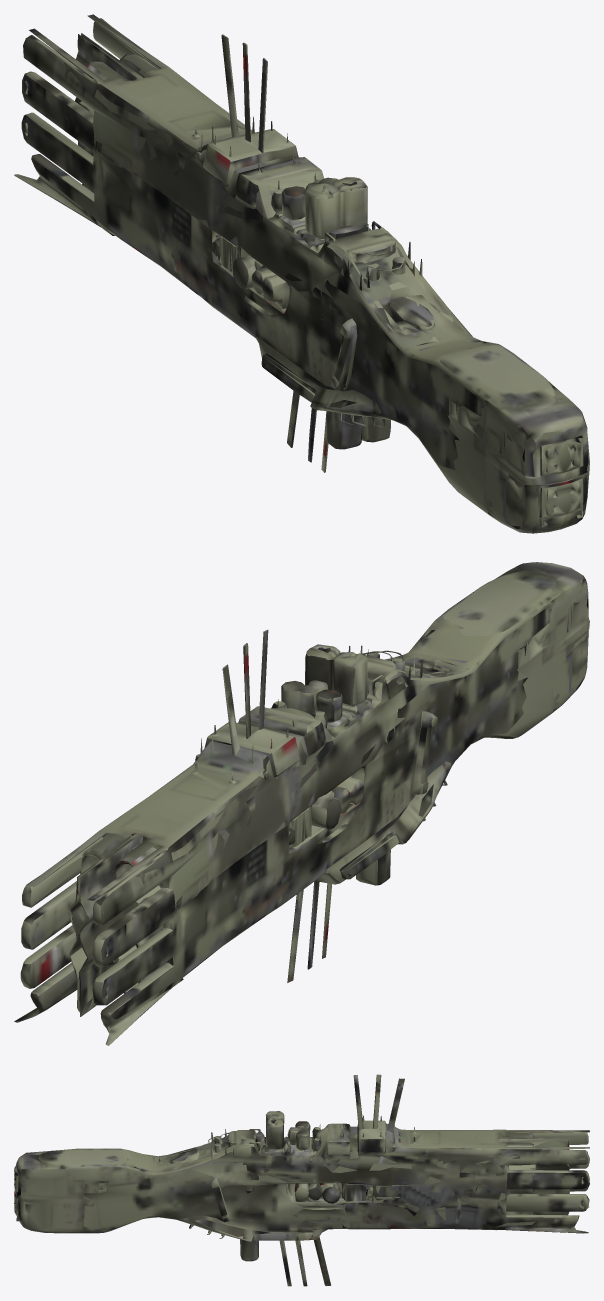
The model's file is alliance_battleship.lod1.glb.
The picture shows the model from 3 angles, top to bottom: view 1: azimuth 30°, elevation 25°; view 2: azimuth 150°, elevation 25°; view 3: azimuth 270°, elevation 25°; orthographic projection. The views are drawn at different scales.
Visible parts, largest first — view 1: convert; view 2: convert; view 3: convert.
Part boxes in pixels (bbox=[...]): convert: bbox=[14, 14, 589, 533]; convert: bbox=[14, 562, 589, 1045]; convert: bbox=[14, 1074, 589, 1286].
Bounding box in the file's own units: 0.1335 × 0.4796 × 1.18.
1 material, 1 textured.
